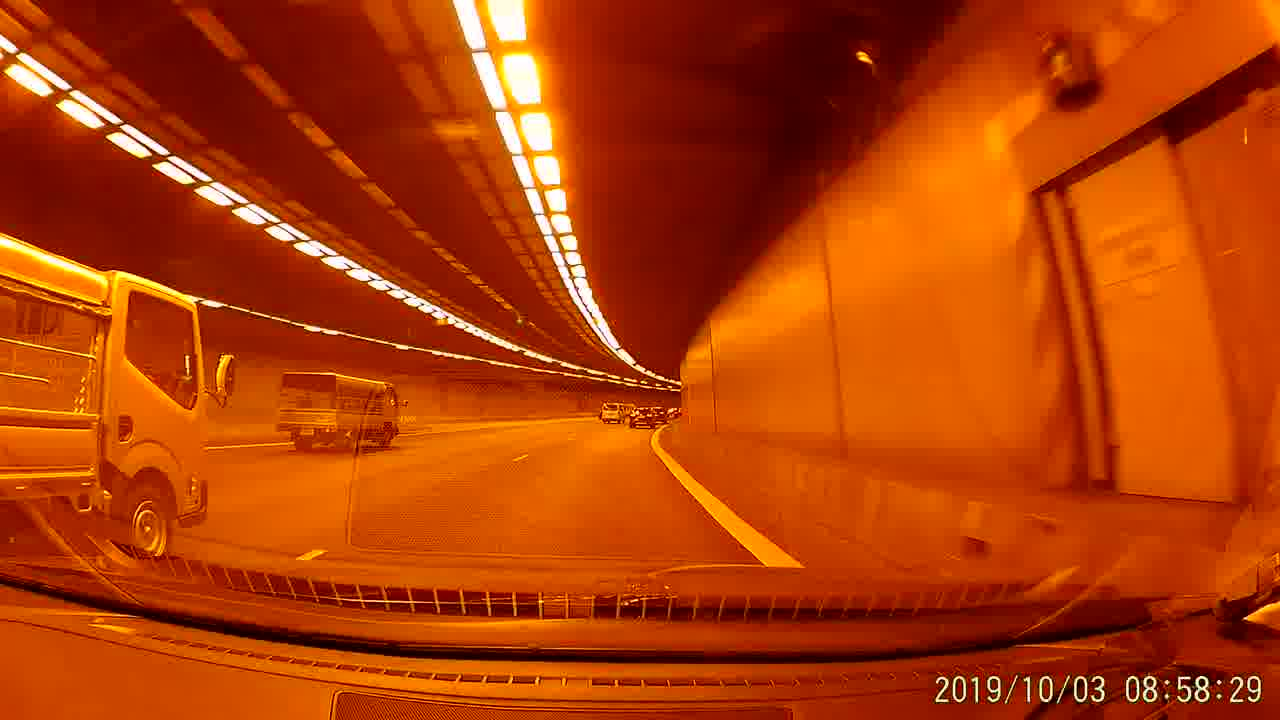car: (626, 404, 655, 429), (647, 405, 672, 423)
